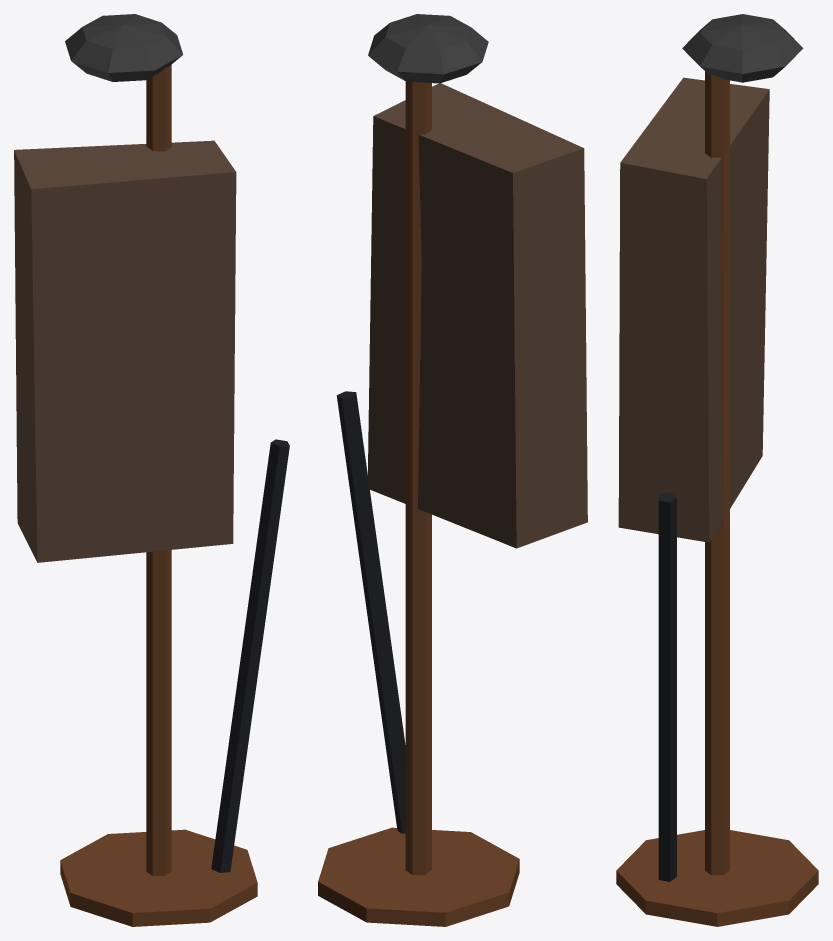
The model's file is coatRack.fbx.
3 renders of one model, left to right at view 1: azimuth 30°, elevation 25°; view 2: azimuth 150°, elevation 25°; view 3: azimuth 270°, elevation 25°, orthographic. The views are drawn at different scales.
Parts seen in each view (by area): view 1: coatRack; view 2: coatRack; view 3: coatRack.
Part boxes in pixels (x1,y1,x2,y2): coatRack: (14,14,289,926); coatRack: (318,14,587,926); coatRack: (616,14,818,926).
Bounding box in the file's own units: 2.25 × 7.4 × 1.6.
